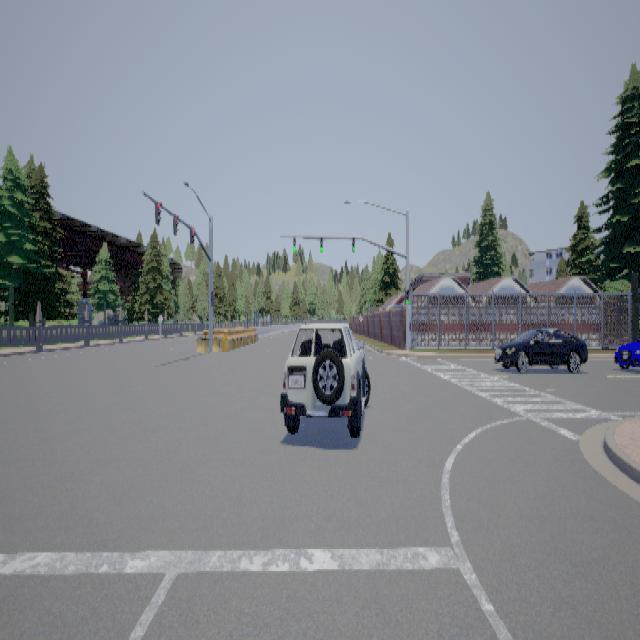green_light: (405, 290, 409, 306), (292, 238, 296, 252), (352, 238, 355, 252), (320, 238, 322, 252)
red_light: (154, 200, 161, 224), (172, 212, 178, 234), (189, 225, 194, 242), (210, 290, 215, 305)
vehicle: (279, 315, 370, 436), (493, 327, 588, 372), (613, 337, 639, 367)
